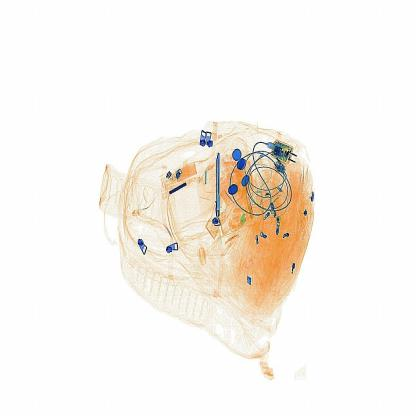pliers: (207, 145, 227, 221)
